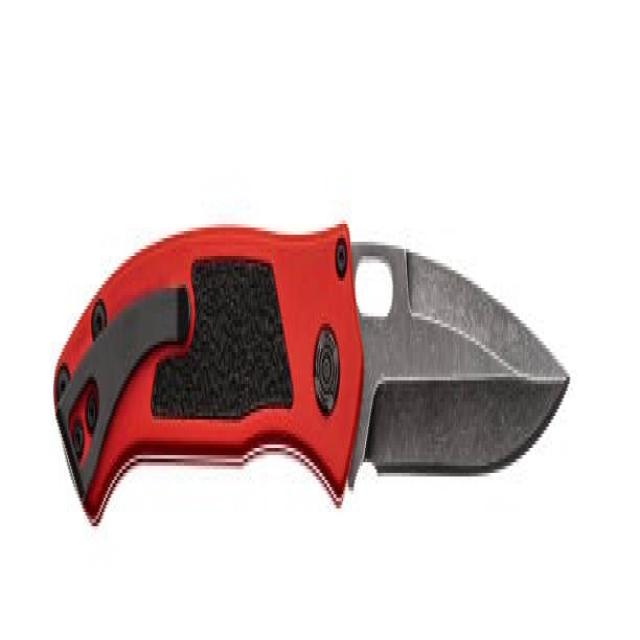knife: (50, 213, 579, 534)
